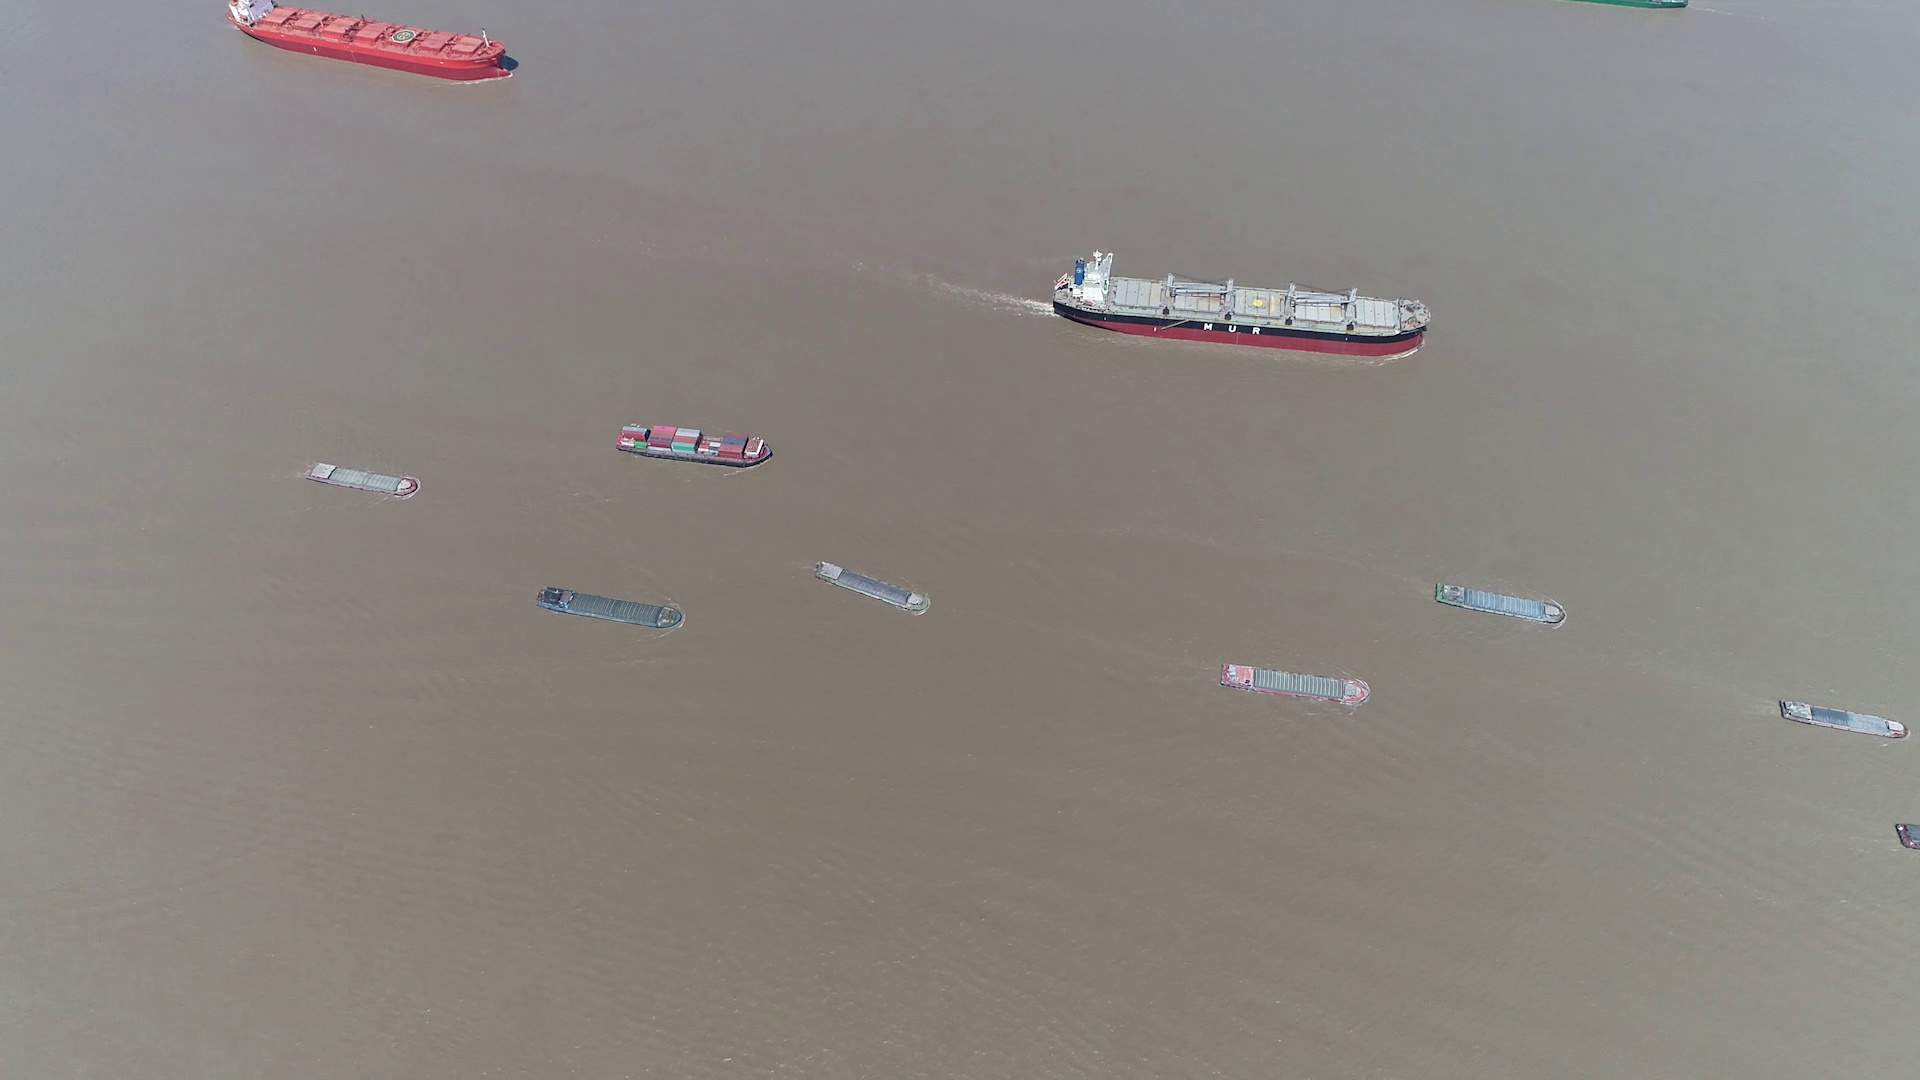ship: (1052, 255, 1433, 353), (225, 0, 518, 79), (617, 422, 774, 468), (535, 588, 686, 632), (1221, 663, 1370, 703), (1433, 582, 1567, 625), (815, 563, 928, 613), (1778, 699, 1905, 740), (305, 462, 419, 497), (1581, 0, 1687, 11), (1895, 824, 1920, 855)
